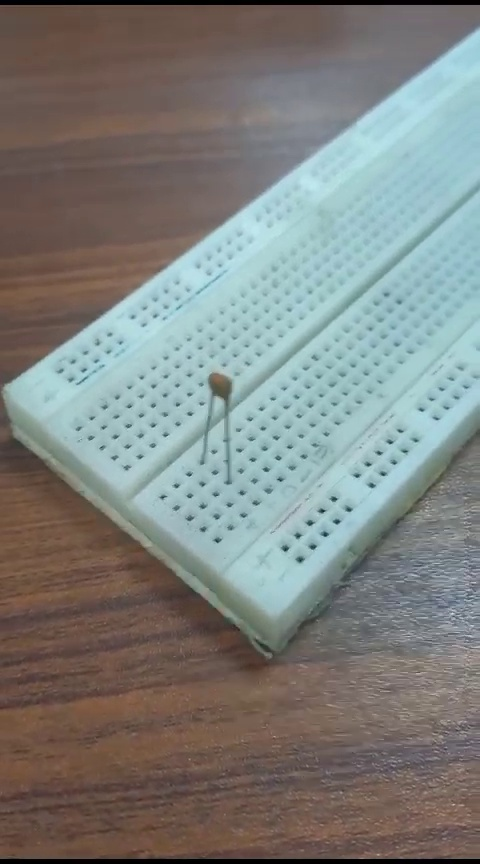ceramic capacitor: (203, 356, 242, 477)
